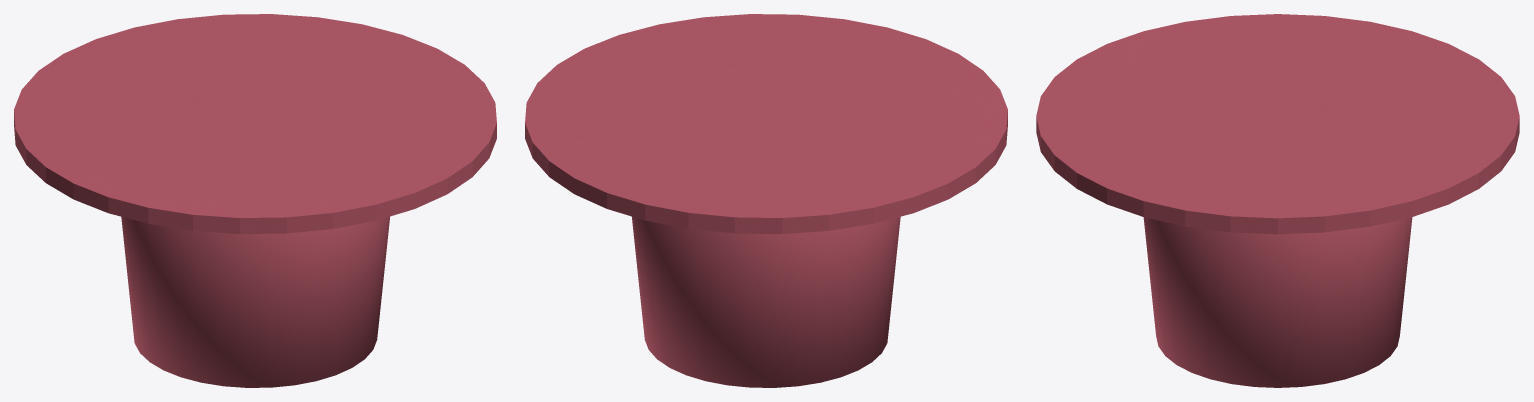
Rendered from Mesa.obj.
3 renders of one model, left to right at view 1: azimuth 30°, elevation 25°; view 2: azimuth 150°, elevation 25°; view 3: azimuth 270°, elevation 25°, orthographic.
Parts seen in each view (by area): view 1: Circle.001, Circle; view 2: Circle.001, Circle; view 3: Circle.001, Circle.
Boxes of the visible parts, x1,y1,x2,y2 form: Circle.001: (14,14,496,233); Circle: (121,216,389,387); Circle.001: (525,14,1007,233); Circle: (632,216,900,387); Circle.001: (1036,14,1519,234); Circle: (1143,217,1412,387).
Bounding box in the file's own units: 2.48 × 1.25 × 2.48.
Materials: 1 (1 with a texture image).
